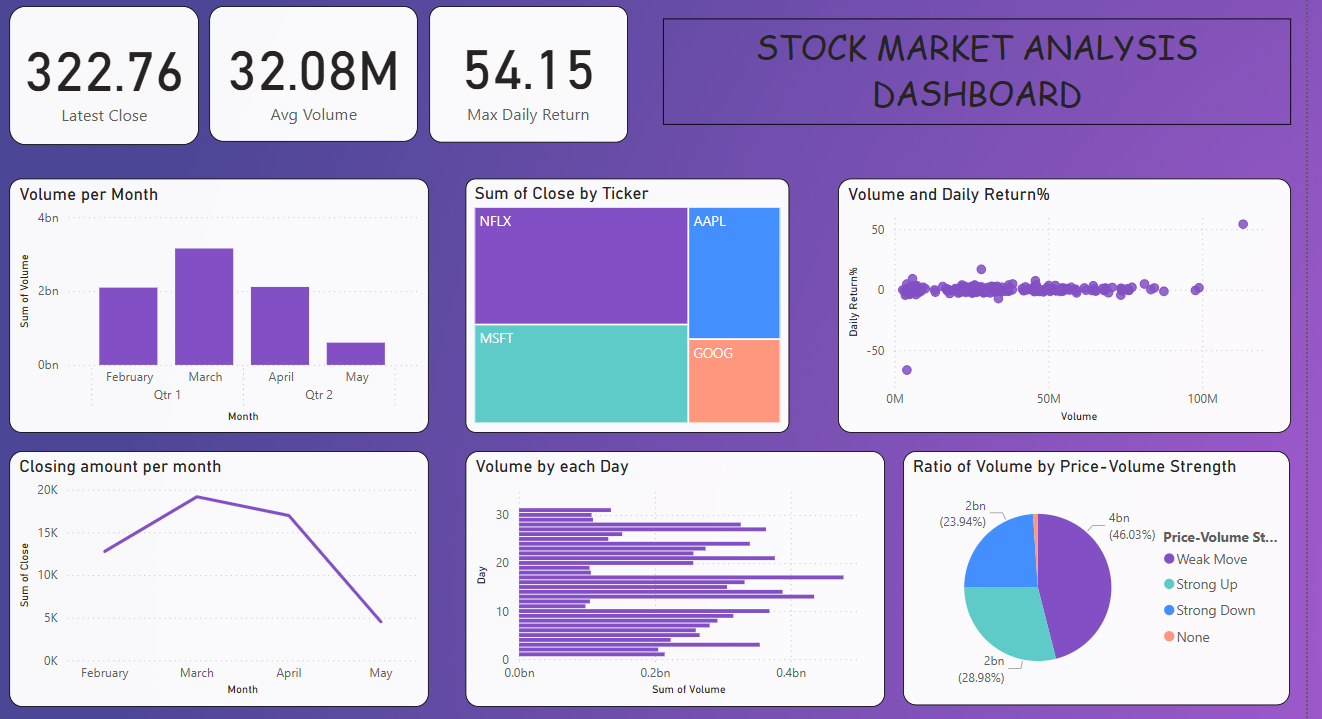

What the dashboard file says about the page in this screenshot:
{"tool":"powerbi","page":{"name":"Page 1","canvas":[1280,720],"ordinal":0},"visuals":[{"type":"lineChart","title":"Closing amount per month","fields":{"Y":["Sum(stocks.Close)"],"Category":["stocks.Date.Variation.Date Hierarchy.Month"]},"box":[11.4,450,410,250],"z":0},{"type":"barChart","title":" Volume by each Day","fields":{"Category":["stocks.Date.Variation.Date Hierarchy.Day"],"Y":["Sum(stocks.Volume)"]},"box":[448.8,450,418.2,249.5],"z":1000},{"type":"treemap","fields":{"Group":["stocks.Ticker"],"Values":["Sum(stocks.Close)"]},"box":[448.8,183.4,352.2,248.2],"z":2000},{"type":"pieChart","title":"Ratio of Volume by Price-Volume Strength","fields":{"Category":["stocks.Price-Volume Strength"],"Y":["Sum(stocks.Volume)"]},"box":[885.7,450,378.6,248.6],"z":3000},{"type":"scatterChart","fields":{"X":["stocks.Volume"],"Y":["stocks.Daily Return%"]},"box":[821.4,182.9,442.9,248.6],"z":4000},{"type":"card","fields":{"Values":["stocks.Latest Close"]},"box":[11,14.7,185.9,135.7],"z":5000},{"type":"card","fields":{"Values":["stocks.Avg Volume"]},"box":[207.1,14.3,204.3,132.9],"z":6000},{"type":"textbox","box":[650,27.1,614.3,104.3],"z":7000},{"type":"columnChart","title":"Volume per Month","fields":{"Y":["Sum(stocks.Volume)"],"Category":["stocks.Date.Variation.Date Hierarchy.Quarter","stocks.Date.Variation.Date Hierarchy.Month"]},"box":[11.4,182.9,410,248.6],"z":8000},{"type":"card","fields":{"Values":["stocks.Max Daily Return"]},"box":[421.9,14.7,194.4,133.3],"z":9000}]}

Visuals, with their boxes in screenshot pixels (x1, y1, x2, y2):
"Closing amount per month" lineChart: [x1=8, y1=449, x2=427, y2=705]
" Volume by each Day" barChart: [x1=455, y1=449, x2=882, y2=704]
treemap - stocks.Ticker x Sum(stocks.Close): [x1=455, y1=177, x2=815, y2=431]
"Ratio of Volume by Price-Volume Strength" pieChart: [x1=902, y1=449, x2=1288, y2=703]
scatterChart - stocks.Volume x stocks.Daily Return%: [x1=836, y1=177, x2=1288, y2=431]
card - stocks.Latest Close: [x1=8, y1=5, x2=198, y2=143]
card - stocks.Avg Volume: [x1=208, y1=4, x2=417, y2=140]
textbox: [x1=661, y1=17, x2=1288, y2=124]
"Volume per Month" columnChart: [x1=8, y1=177, x2=427, y2=431]
card - stocks.Max Daily Return: [x1=428, y1=5, x2=626, y2=141]
